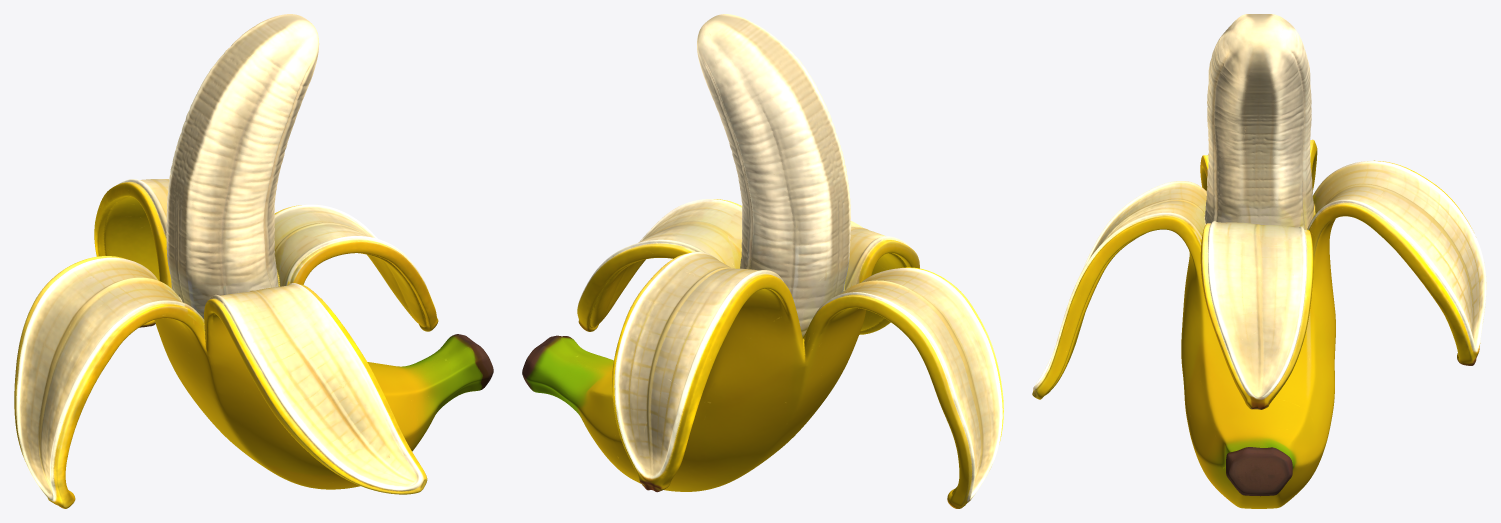
Rendered from Meshy_AI_Golden_Peel_0604044444_texture.fbx.
3 views of the same model, side by side, from view 1: azimuth 30°, elevation 25°; view 2: azimuth 150°, elevation 25°; view 3: azimuth 270°, elevation 25° (orthographic). The views are drawn at different scales.
Parts seen in each view (by area): view 1: Mesh_0; view 2: Mesh_0; view 3: Mesh_0.
Boxes of the visible parts, bbox=[...] form: Mesh_0: bbox=[14, 14, 493, 508]; Mesh_0: bbox=[522, 14, 1003, 508]; Mesh_0: bbox=[1032, 14, 1486, 508].
Size of the model in its own units: 188 by 190 by 172.
1 material, 1 textured.
